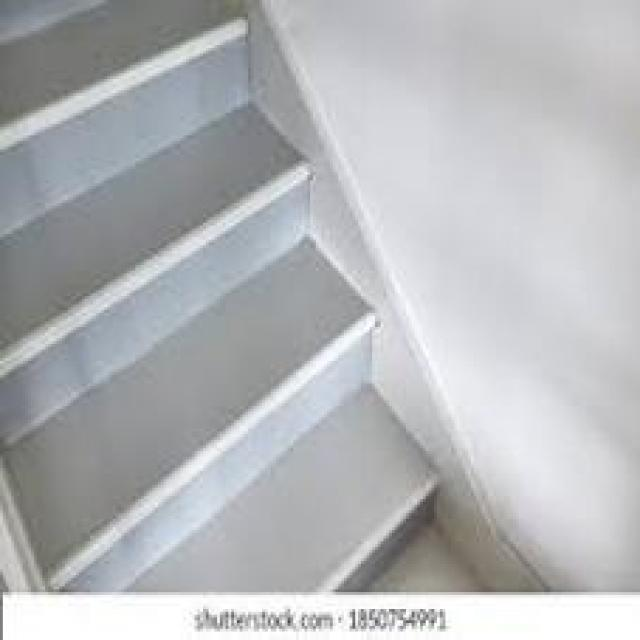upstair: (32, 102, 404, 517)
